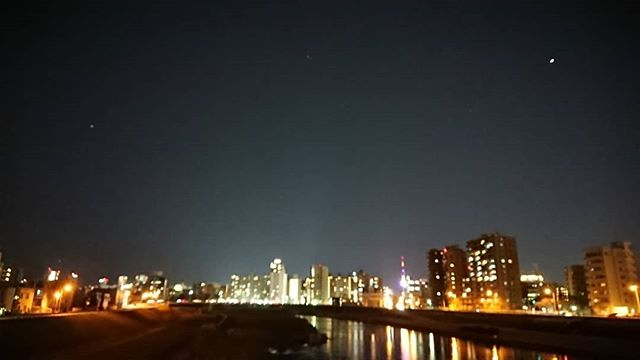building: (461, 229, 521, 317), (582, 234, 640, 321), (424, 239, 472, 314), (264, 259, 290, 308), (306, 257, 330, 308)
river: (10, 302, 640, 360)
sky: (4, 4, 637, 251)
